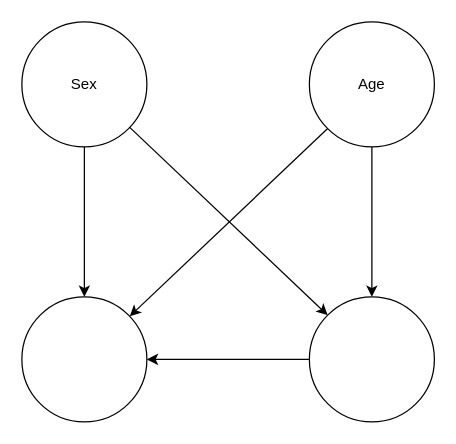
Image size: 456x444. Some labels were removed from this diagram. Here are the shapes that lost their labels. From the top down, the centre of each, then its label:
At point (84, 359): "Remaining Input Features".
At point (371, 359): "Heart Disease Presence".
